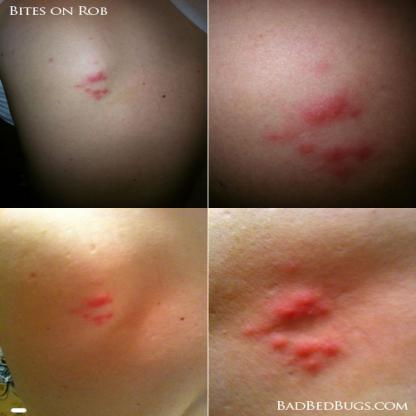Bed Bug: (223, 259, 360, 379), (258, 88, 381, 184), (61, 285, 129, 335), (66, 60, 124, 106), (304, 53, 342, 77)
